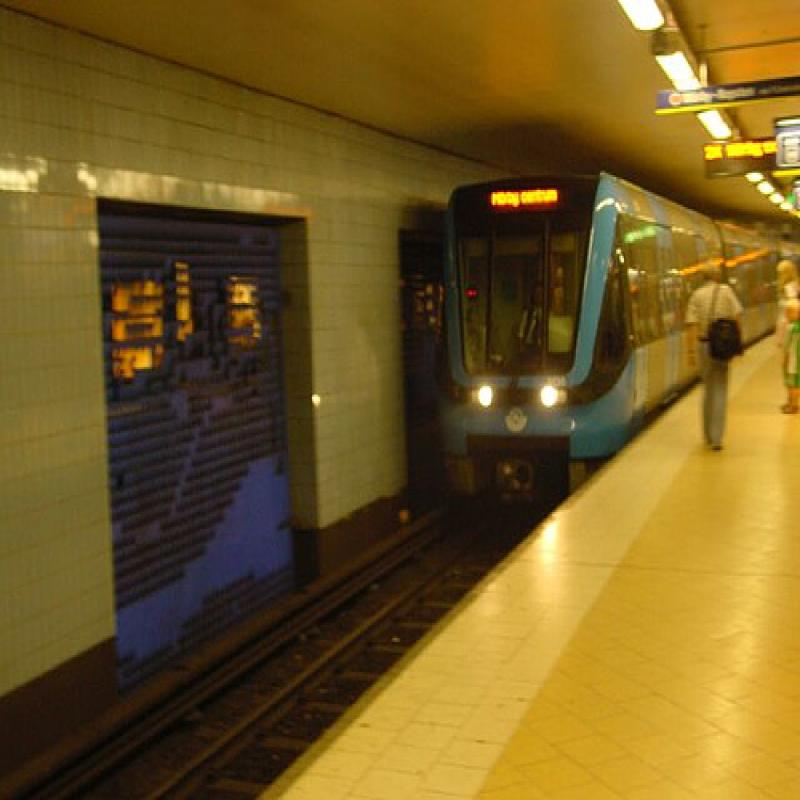train: (435, 168, 800, 501)
